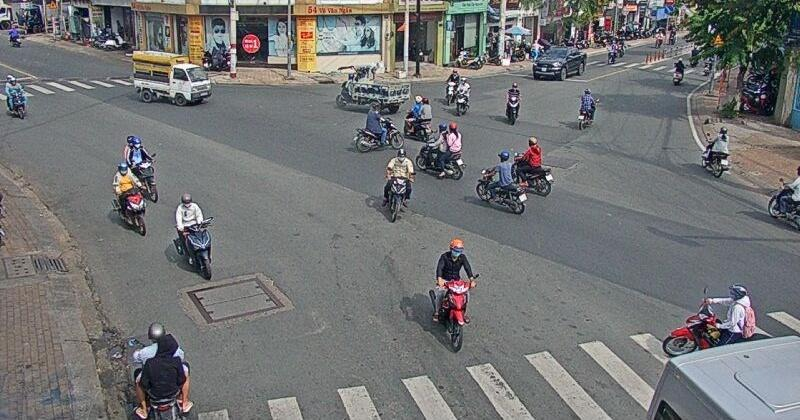xe may: (661, 283, 761, 356), (429, 239, 476, 353), (474, 151, 527, 215), (416, 123, 465, 179), (354, 102, 403, 152), (513, 136, 553, 197), (385, 148, 414, 223), (701, 126, 729, 178), (403, 95, 432, 140), (577, 87, 596, 129), (506, 82, 520, 124), (456, 77, 470, 116), (445, 69, 460, 104)
xe tai: (130, 50, 211, 106)
